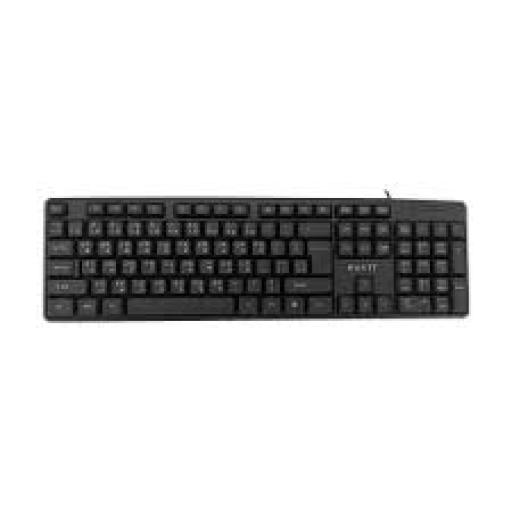keyboard: (46, 196, 466, 319)
